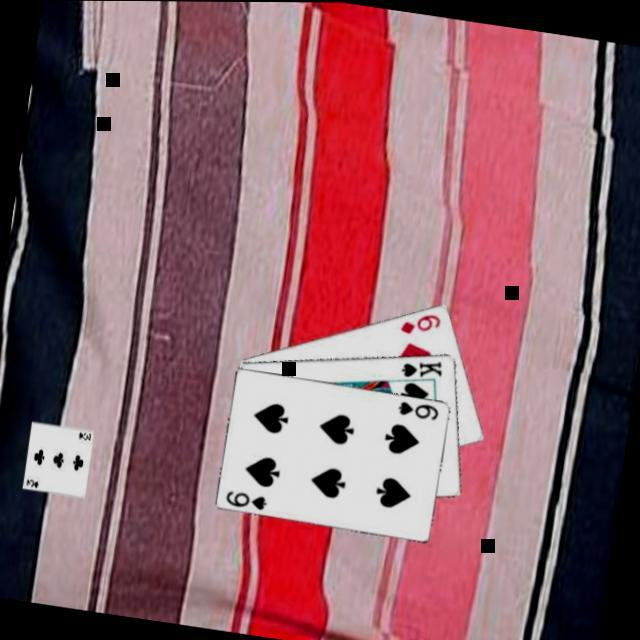6D: (394, 308, 442, 342)
6S: (221, 488, 269, 514), (392, 398, 439, 423)
KS: (395, 354, 445, 386)
